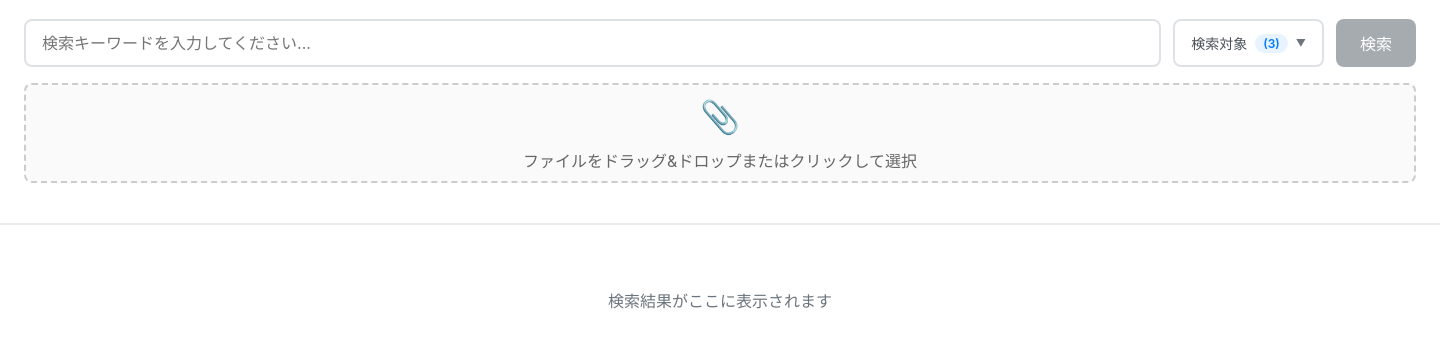
Test case: SearchPage › should display search results after search
The image size is (1440, 362).
Type "防衛費" into the field with placeholder "検索キーワードを入力してください..." at (593, 43), box [24,19,1161,67]
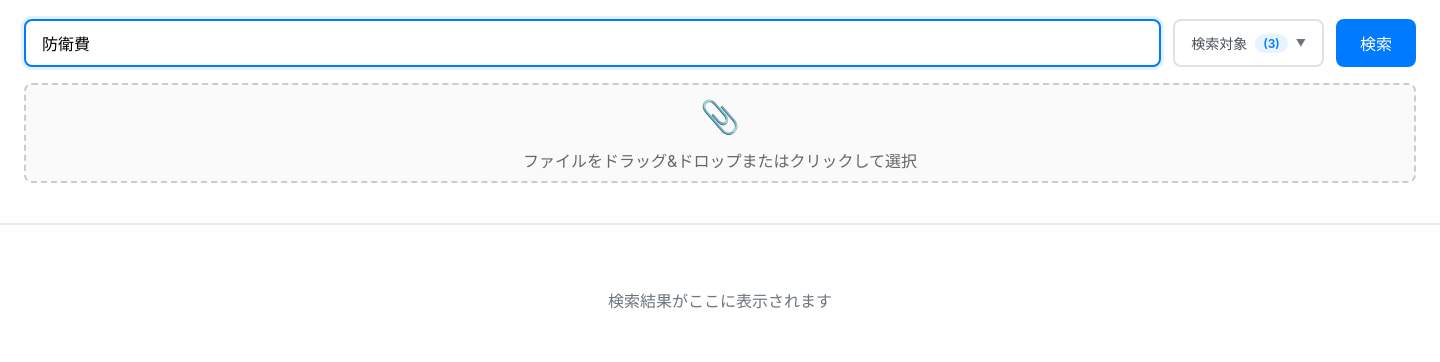
Click the button "検索" at (1376, 43), box [1336,19,1416,67]
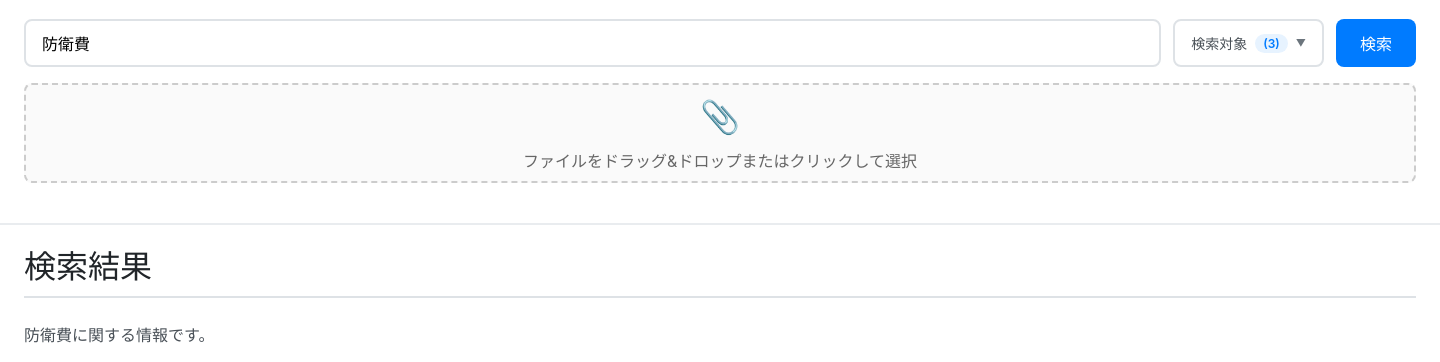
Expected: the heading "検索結果" is shown, [24,249,1416,298]
Expected: the text "防衛費に関する情報です。" is shown, [24,325,214,345]
